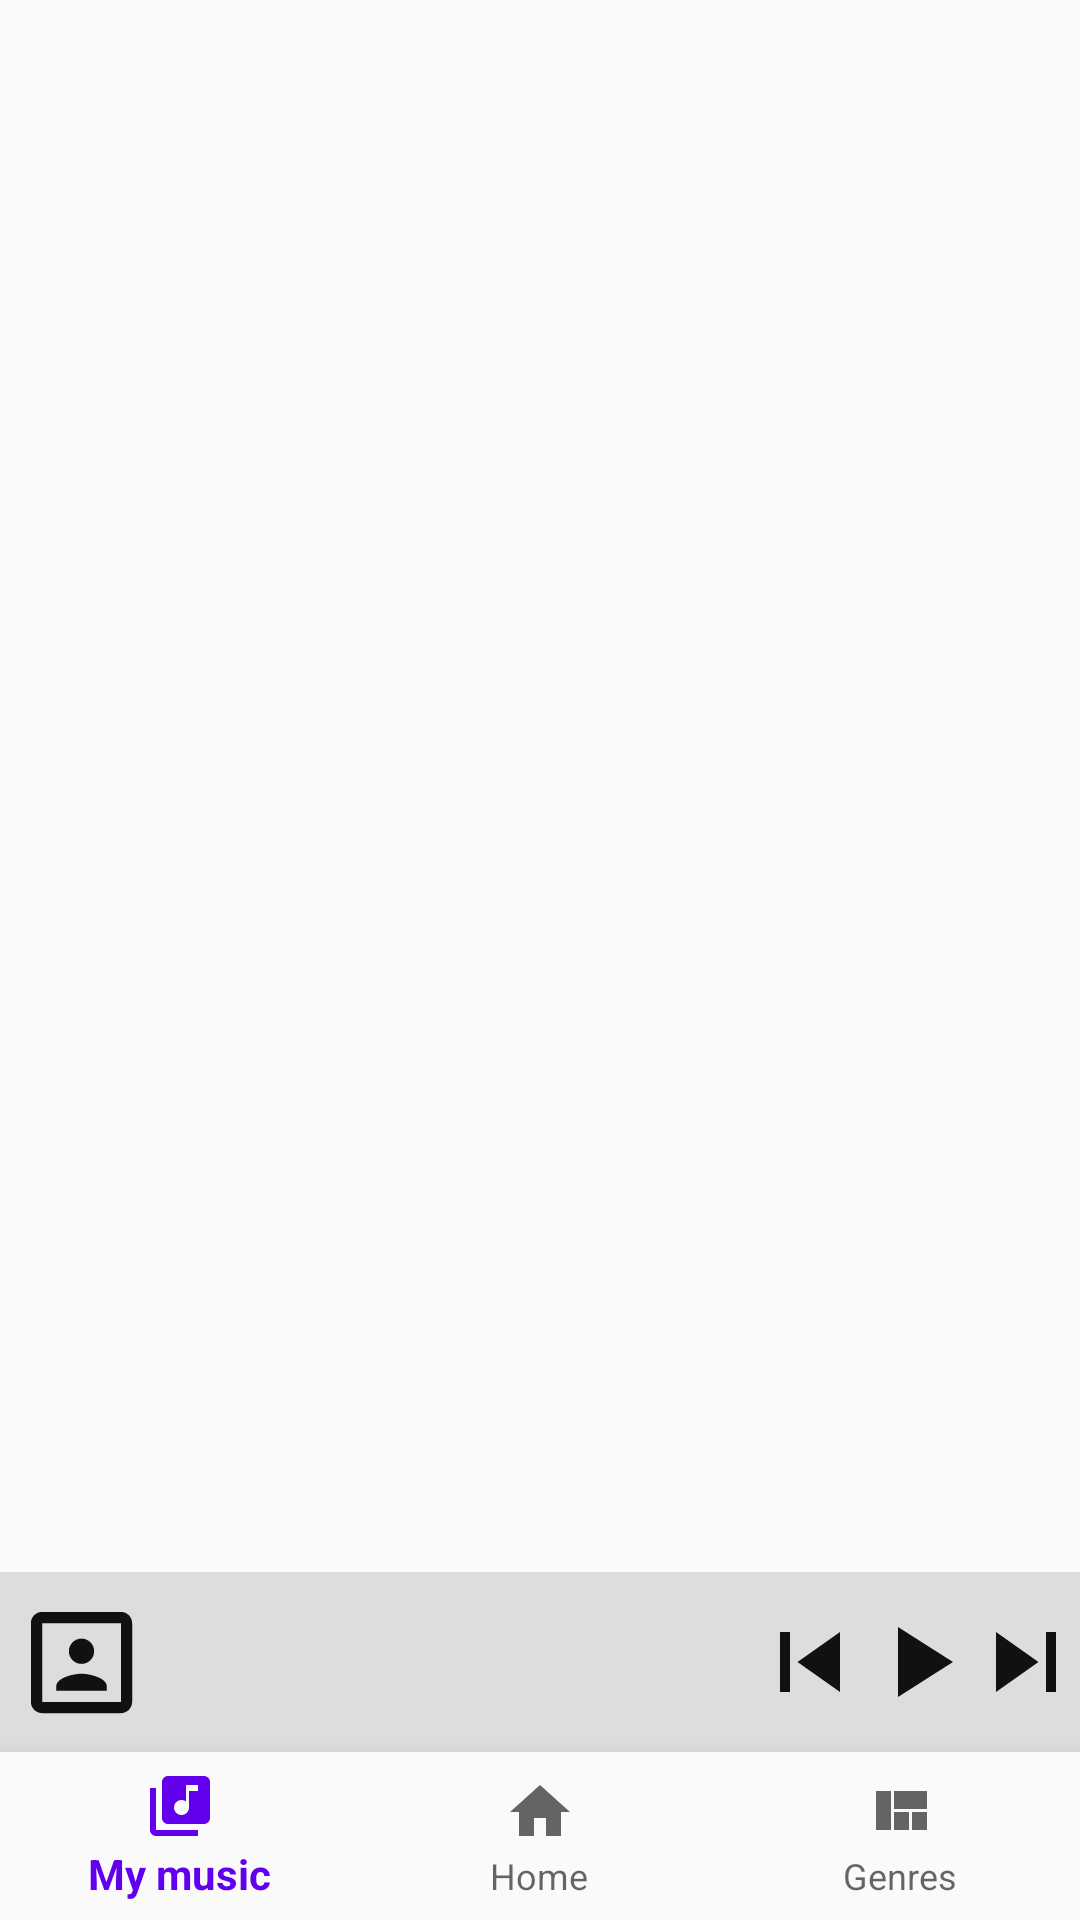

Screen size 1080px x 1920px. Icon name, then its center in pixels as (x=x, y=y):
Image song or singer: (x=82, y=1663)
play arrow: (x=925, y=1662)
skip next: (x=1026, y=1662)
skip previous: (x=810, y=1662)
